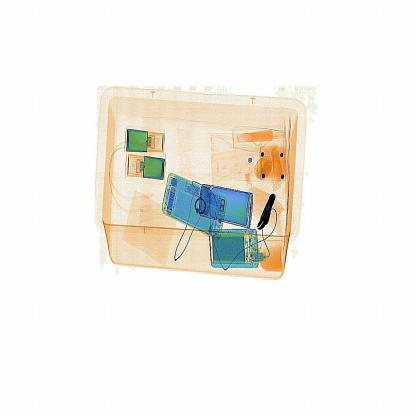knife: (254, 181, 282, 230)
